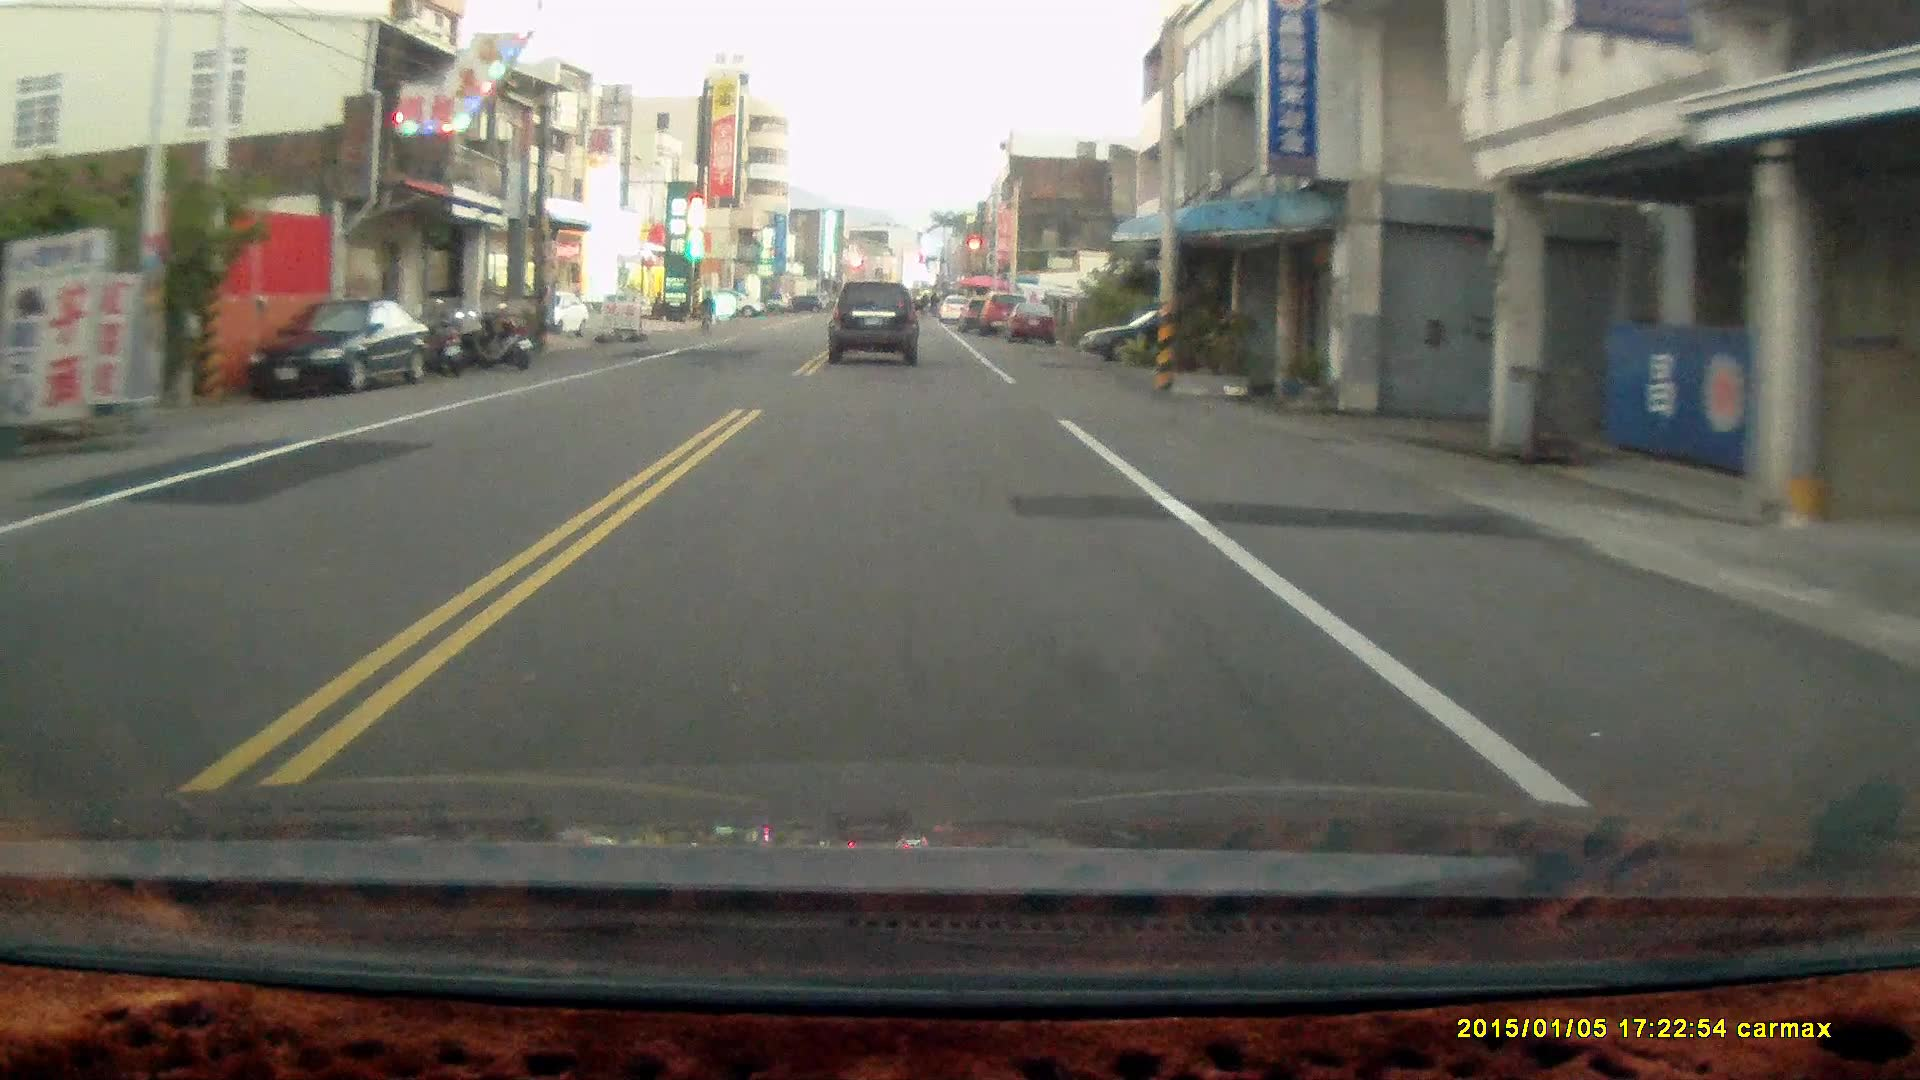rider: (693, 287, 716, 335)
vehicle: (243, 299, 431, 396), (829, 279, 920, 368)
